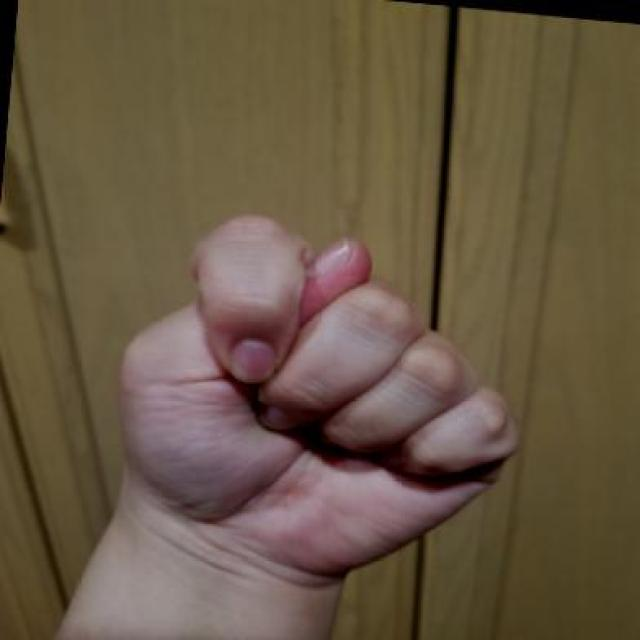T: (100, 199, 533, 601)
